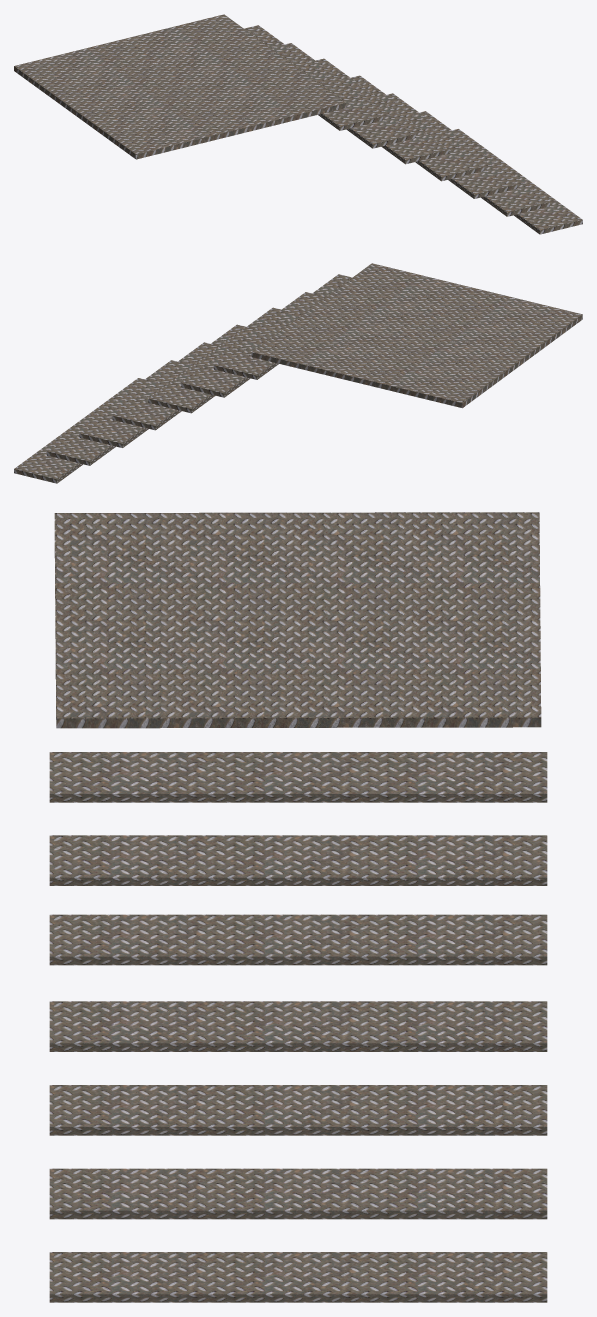
File: stairs03_lod.fbx
The picture shows the model from 3 angles, top to bottom: view 1: azimuth 30°, elevation 25°; view 2: azimuth 150°, elevation 25°; view 3: azimuth 270°, elevation 25°; orthographic projection. The views are drawn at different scales.
Visible parts, largest first — view 1: Mesh Object; view 2: Mesh Object; view 3: Mesh Object.
Part boxes in pixels (x1,y1,x2,y2): Mesh Object: (14, 14, 582, 234); Mesh Object: (14, 263, 582, 483); Mesh Object: (49, 512, 547, 1302).
Size of the model in its own units: 2.83 by 1.07 by 1.36.
